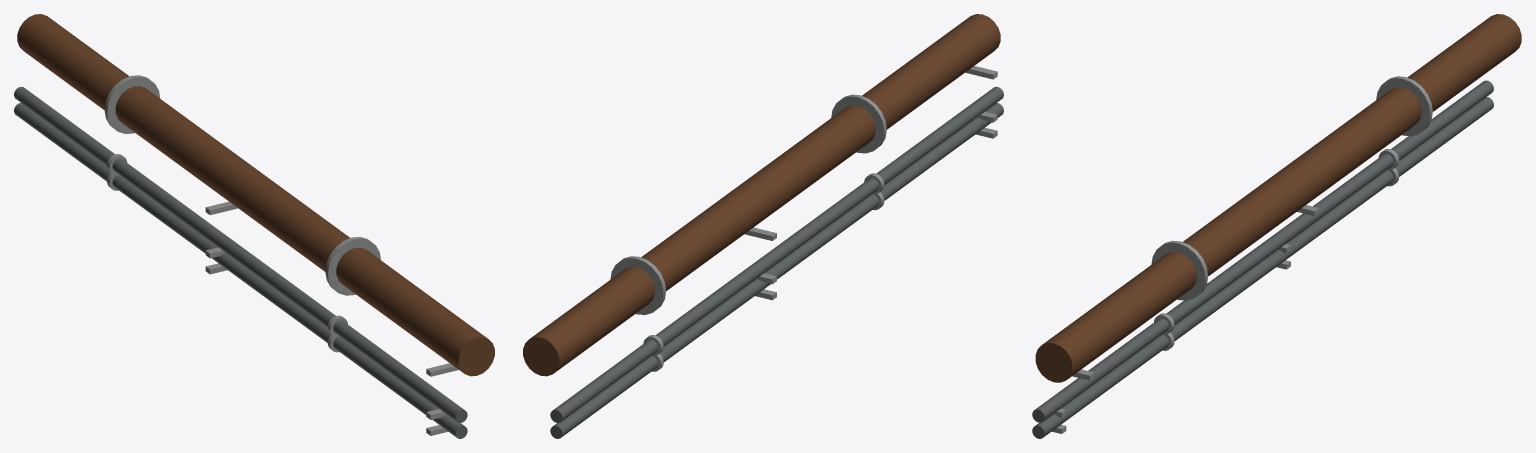
Rendered from pipe_bundle_b.glb.
3 views of the same model, side by side, from view 1: azimuth 30°, elevation 25°; view 2: azimuth 150°, elevation 25°; view 3: azimuth 330°, elevation 25° (orthographic).
Visible parts, largest first — view 1: rohr0, rohr1, rohr2, muffe01, muffe00; view 2: rohr0, rohr1, rohr2, muffe00, muffe01; view 3: rohr0, rohr1, rohr2, muffe01, muffe00.
Boxes of the visible parts, x1,y1,x2,y2 form: rohr0: [17, 14, 494, 376]; rohr1: [14, 87, 467, 422]; rohr2: [14, 103, 467, 438]; muffe01: [104, 75, 160, 133]; muffe00: [325, 237, 380, 295]; rohr0: [523, 14, 1000, 376]; rohr1: [550, 87, 1003, 422]; rohr2: [550, 103, 1003, 438]; muffe00: [831, 94, 886, 153]; muffe01: [610, 256, 665, 314]; rohr0: [1035, 14, 1521, 382]; rohr1: [1032, 80, 1493, 422]; rohr2: [1032, 97, 1493, 438]; muffe01: [1376, 76, 1432, 136]; muffe00: [1151, 240, 1208, 300].
Size of the model in its own units: 0.374 by 0.694 by 5.
